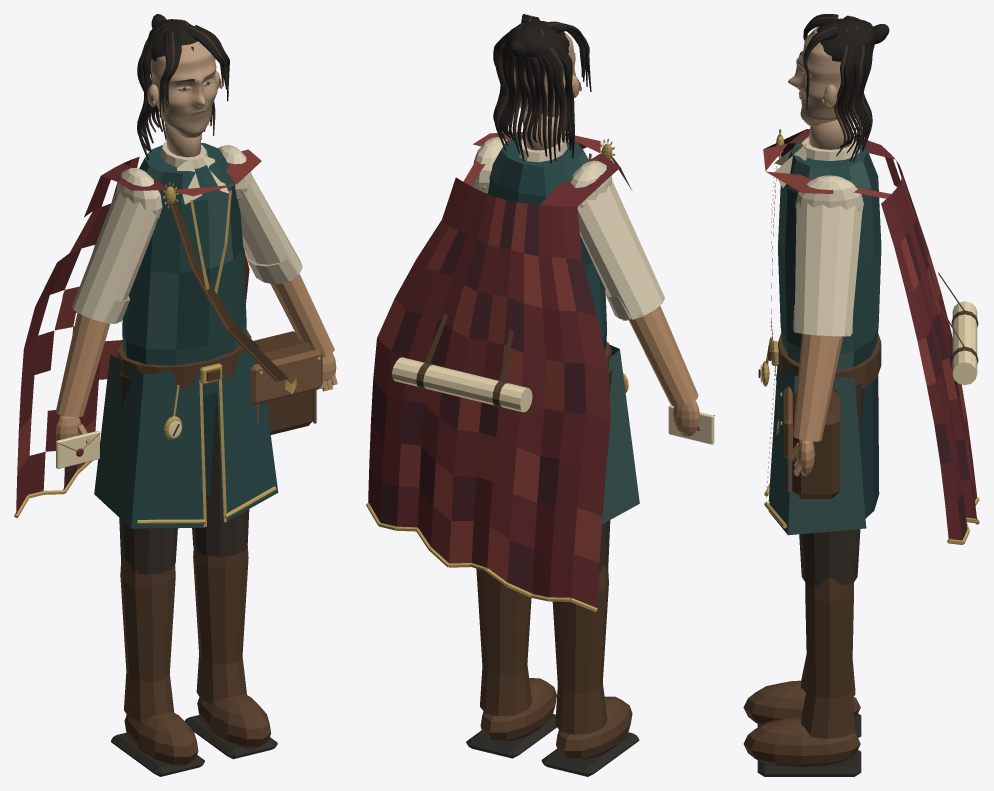
The model's file is courier.glb.
3 renders of one model, left to right at view 1: azimuth 30°, elevation 25°; view 2: azimuth 150°, elevation 25°; view 3: azimuth 270°, elevation 25°, orthographic. The views are drawn at different scales.
Parts seen in each view (by area): view 1: Waistcoat, Split_coat_R, Cloak_folds, Boot_shaft_R, Boot_shaft_L, Split_coat_L, Linen_sleeve_R, Face, Forearm_R, Linen_sleeve_L, Trouser_thigh_L, Boot_toe_R (+18 smaller); view 2: Cloak_folds, Boot_shaft_R, Boot_shaft_L, Linen_sleeve_R, Waistcoat, Split_coat_R, Map_roll, Forearm_R, Boot_toe_R, Boot_toe_L, Boot_sole_R, Boot_sole_L (+8 smaller); view 3: Cloak_folds, Waistcoat, Linen_sleeve_L, Boot_shaft_L, Split_coat_L, Boot_toe_L, Forearm_L, Trouser_thigh_L, Messenger_satchel, Face, Back_coat, Boot_toe_R (+12 smaller).
Part boxes in pixels (x1,y1,x2,y2): Waistcoat: (122,143,246,396); Split_coat_R: (94,354,204,528); Cloak_folds: (16,149,261,513); Boot_shaft_R: (120,557,175,721); Boot_shaft_L: (193,543,248,703); Split_coat_L: (216,339,278,523); Linen_sleeve_R: (72,188,159,323); Face: (150,41,217,137); Forearm_R: (55,312,109,417); Linen_sleeve_L: (238,175,302,283); Trouser_thigh_L: (192,392,249,557); Boot_toe_R: (124,711,198,767); Cloak_folds: (368,132,631,607); Boot_shaft_R: (552,564,608,734); Boot_shaft_L: (476,568,531,716); Linen_sleeve_R: (577,180,664,320); Waistcoat: (487,135,606,350); Split_coat_R: (602,344,639,524); Map_roll: (392,357,532,412); Forearm_R: (629,305,698,406); Boot_toe_R: (556,696,632,760); Boot_toe_L: (480,678,556,741); Boot_sole_R: (541,732,639,776); Boot_sole_L: (466,714,556,758); Cloak_folds: (763,129,976,540); Waistcoat: (778,137,881,370); Linen_sleeve_L: (795,202,862,336); Boot_shaft_L: (801,576,855,738); Split_coat_L: (768,350,866,535); Boot_toe_L: (743,717,860,767); Forearm_L: (792,334,842,441); Trouser_thigh_L: (799,383,863,586); Messenger_satchel: (792,389,840,498); Face: (788,26,848,126); Back_coat: (858,375,879,518); Boot_toe_R: (743,680,860,725).
Size of the model in its own units: 0.7395 by 1.75 by 0.5149.
